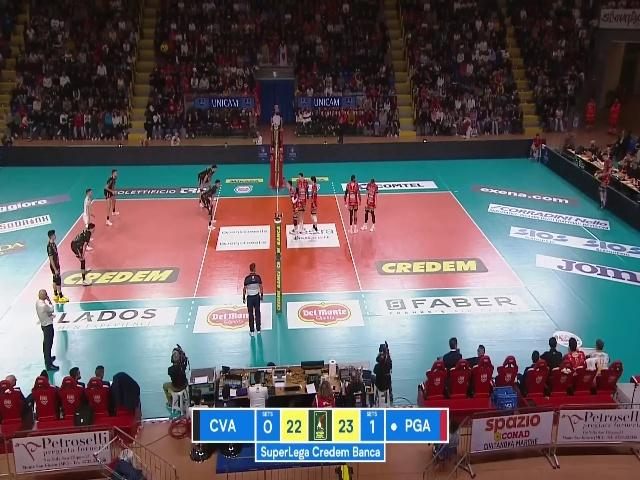volleyball court: (36, 190, 529, 303)
